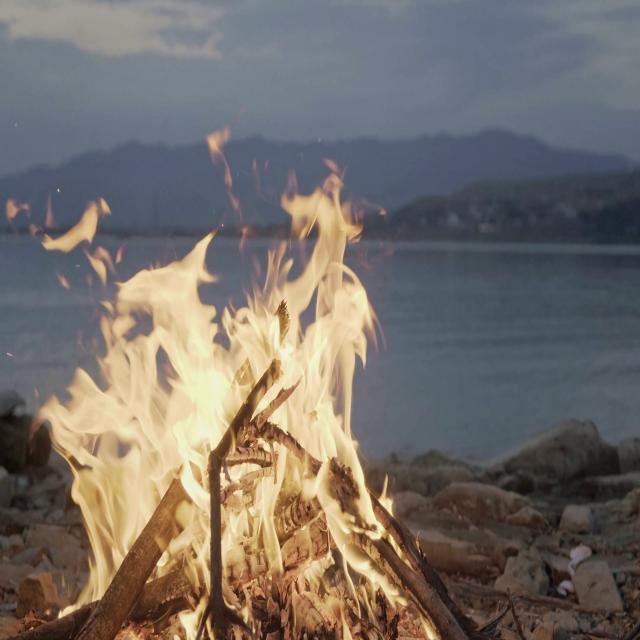Fire: (30, 161, 410, 640)
